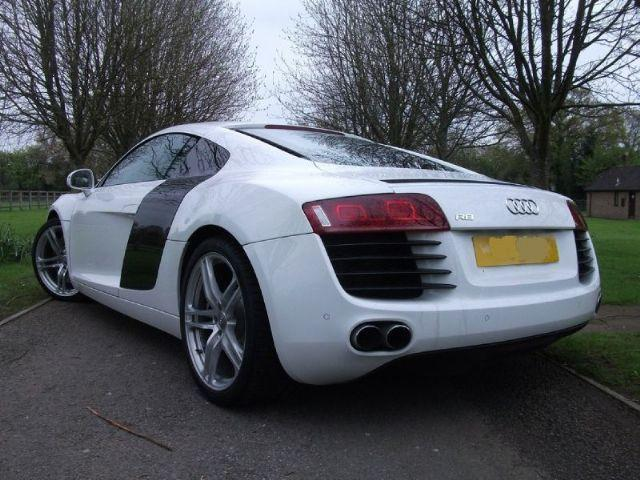Audi: (499, 194, 547, 220)
